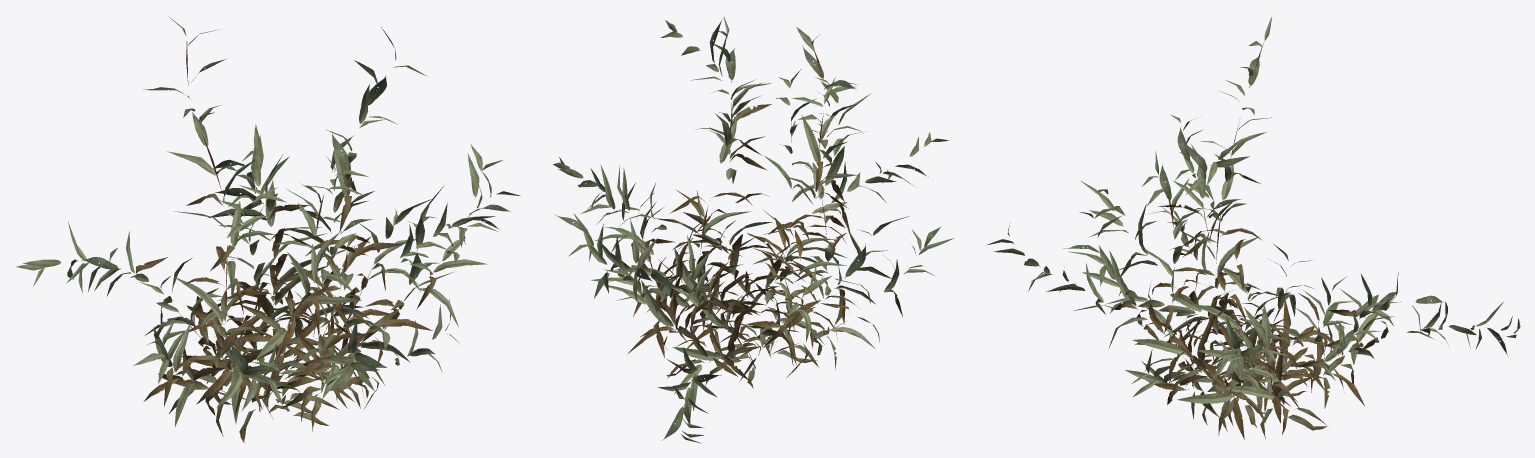
Rendered from shrub_02.glb.
3 views of the same model, side by side, from view 1: azimuth 30°, elevation 25°; view 2: azimuth 150°, elevation 25°; view 3: azimuth 270°, elevation 25° (orthographic). The views are drawn at different scales.
Visible parts, largest first — view 1: plant_0, plant_2, plant_1, plant_3; view 2: plant_2, plant_0, plant_1, plant_3; view 3: plant_0, plant_1, plant_2, plant_3.
Part boxes in pixels (x1=…): plant_0: x1=143, y1=16, x2=510, y2=442; plant_2: x1=15, y1=124, x2=520, y2=436; plant_1: x1=182, y1=27, x2=431, y2=423; plant_3: x1=140, y1=135, x2=460, y2=431; plant_2: x1=553, y1=77, x2=954, y2=443; plant_0: x1=580, y1=17, x2=871, y2=362; plant_1: x1=603, y1=17, x2=909, y2=381; plant_3: x1=556, y1=69, x2=833, y2=364; plant_0: x1=1063, y1=16, x2=1443, y2=439; plant_1: x1=1106, y1=138, x2=1401, y2=438; plant_2: x1=986, y1=115, x2=1520, y2=425; plant_3: x1=1125, y1=151, x2=1380, y2=425.
Bounding box in the file's own units: 1.77 × 1.69 × 2.28.
1 material, 1 textured.
